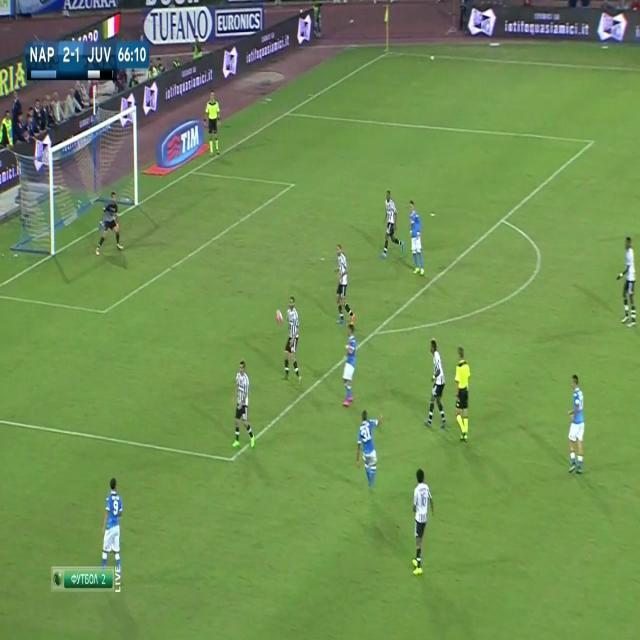Ball: (275, 308, 283, 332)
Goalkeeper: (95, 188, 123, 258)
Player: (411, 467, 435, 576), (230, 359, 256, 453), (356, 406, 384, 492), (423, 337, 448, 432), (99, 474, 123, 570), (568, 372, 588, 478), (616, 233, 638, 327), (332, 242, 356, 324), (282, 294, 302, 388), (381, 188, 405, 262), (341, 322, 359, 412), (407, 200, 427, 278)
Referee: (454, 346, 475, 447), (202, 89, 223, 158)
